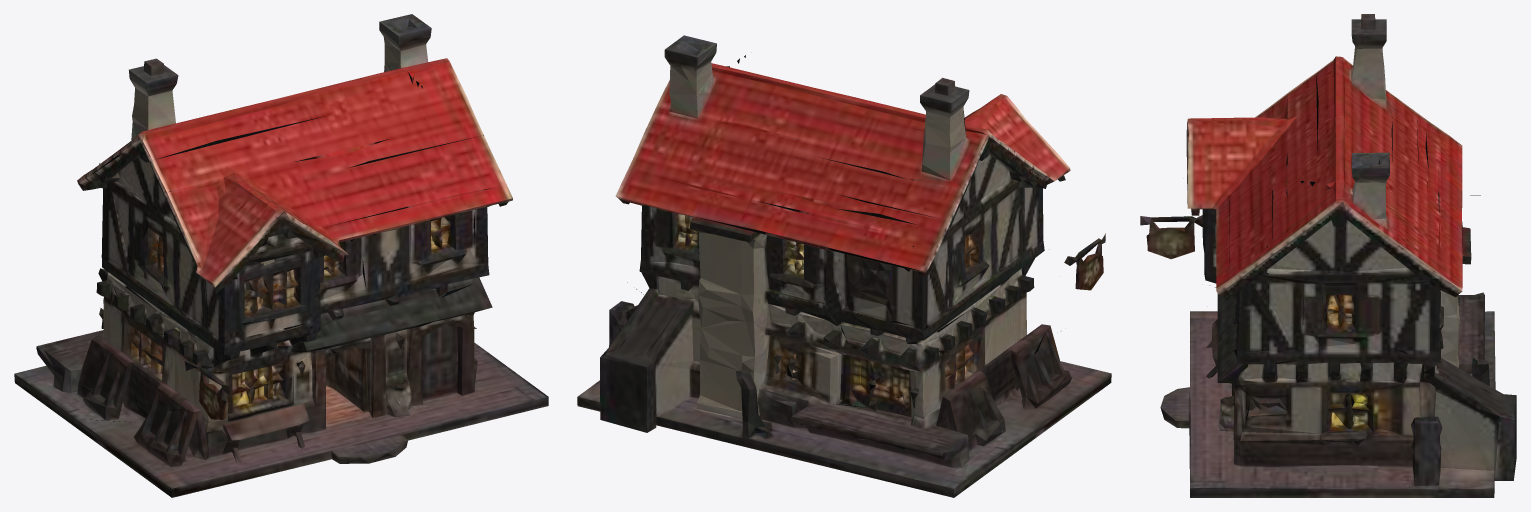
File: tavern_red_roof_lod0.glb
The picture shows the model from 3 angles, left to right: view 1: azimuth 30°, elevation 25°; view 2: azimuth 150°, elevation 25°; view 3: azimuth 270°, elevation 25°; orthographic projection. The views are drawn at different scales.
Parts seen in each view (by area): view 1: tavern_red_roof_lod0; view 2: tavern_red_roof_lod0; view 3: tavern_red_roof_lod0.
Part boxes in pixels (x1,y1,x2,y2): tavern_red_roof_lod0: [14, 14, 548, 497]; tavern_red_roof_lod0: [577, 35, 1111, 497]; tavern_red_roof_lod0: [1140, 14, 1516, 497].
Size of the model in its own units: 9.03 by 8.02 by 8.07.
1 material, 1 textured.
